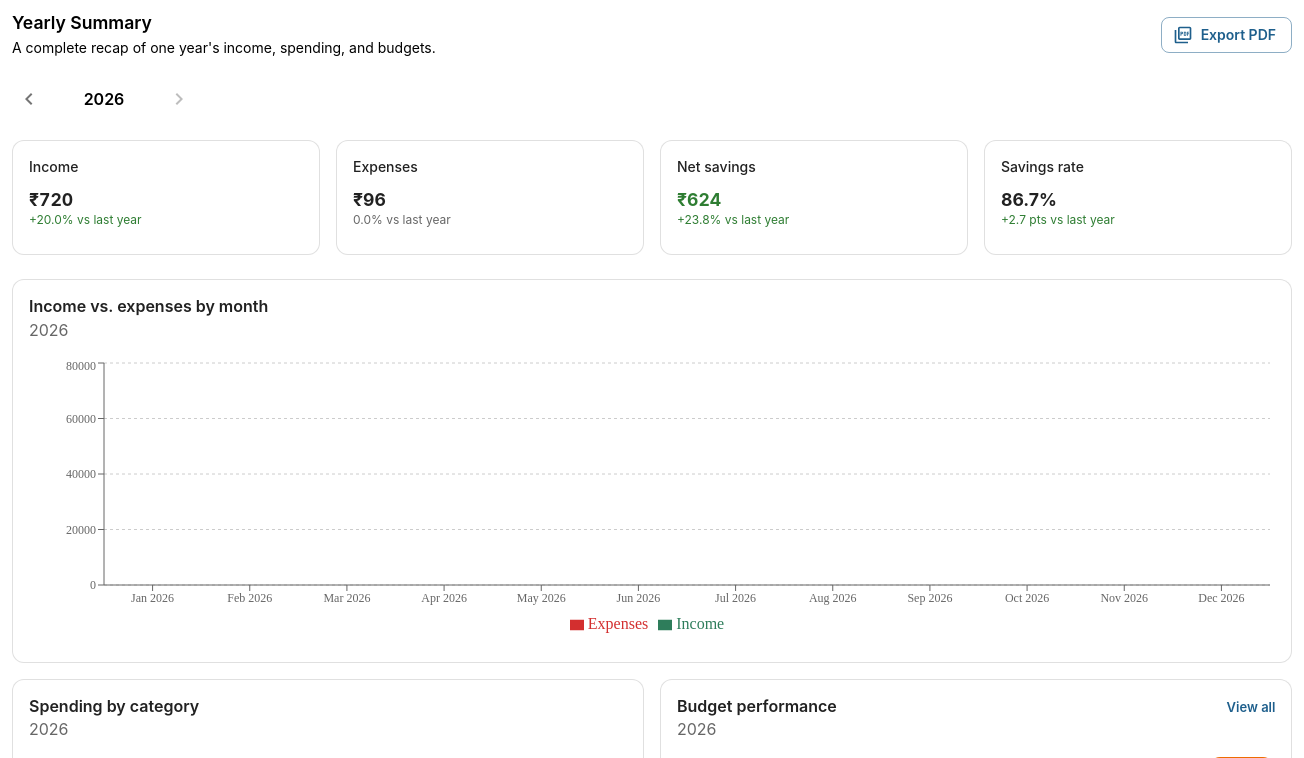
Test: YearlySummaryPage › navigates to the previous year and disables "Next year" at the current year
Check: the button named "Next year" is disabled, box x1=162 y1=82 x2=196 y2=116
Click the button named "Previous year": (29, 99) x1=12 y1=82 x2=46 y2=116
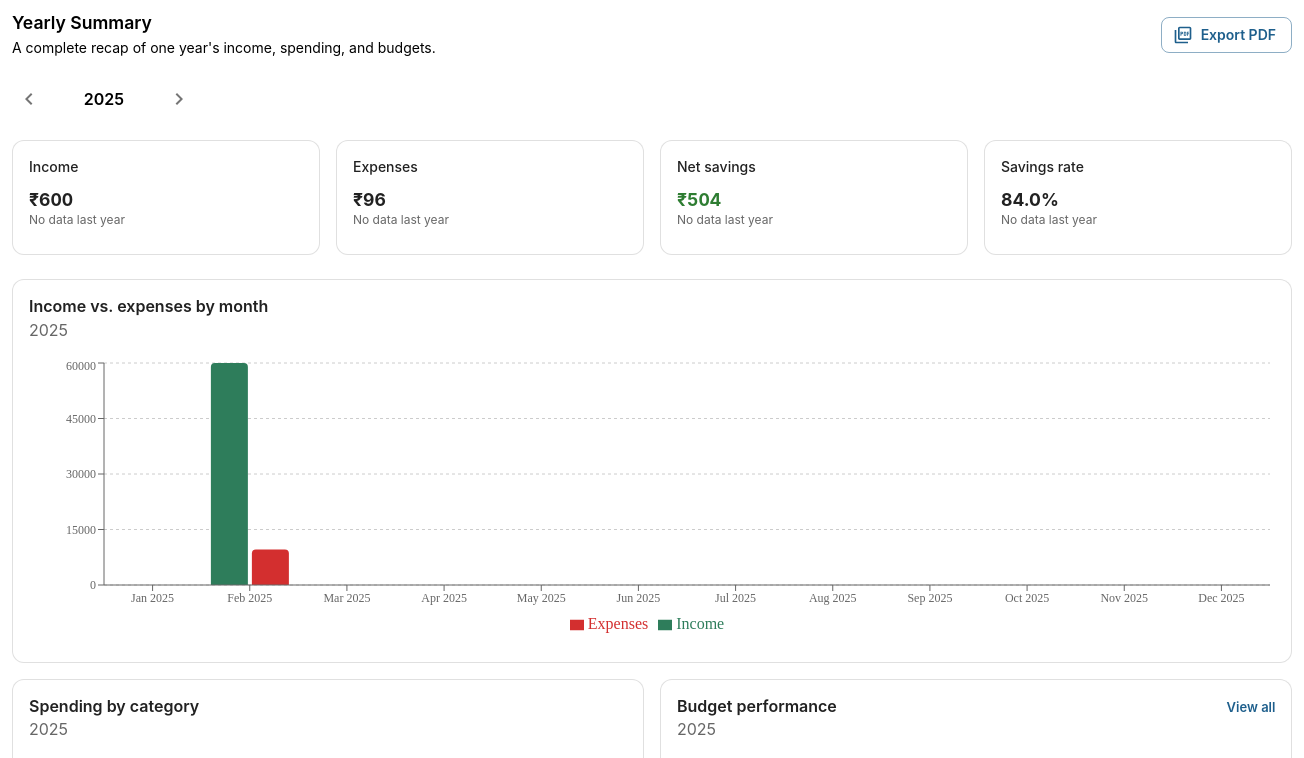
Check: the button named "Next year" is enabled, box x1=162 y1=82 x2=196 y2=116
